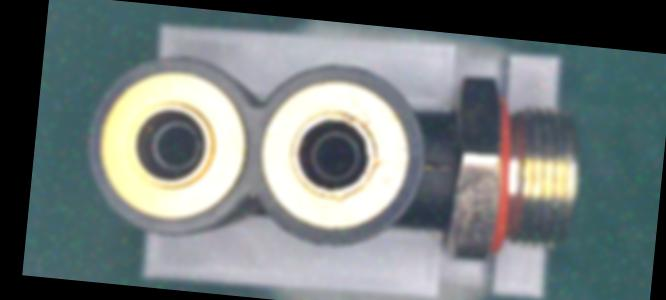craze: (422, 157, 460, 174)
